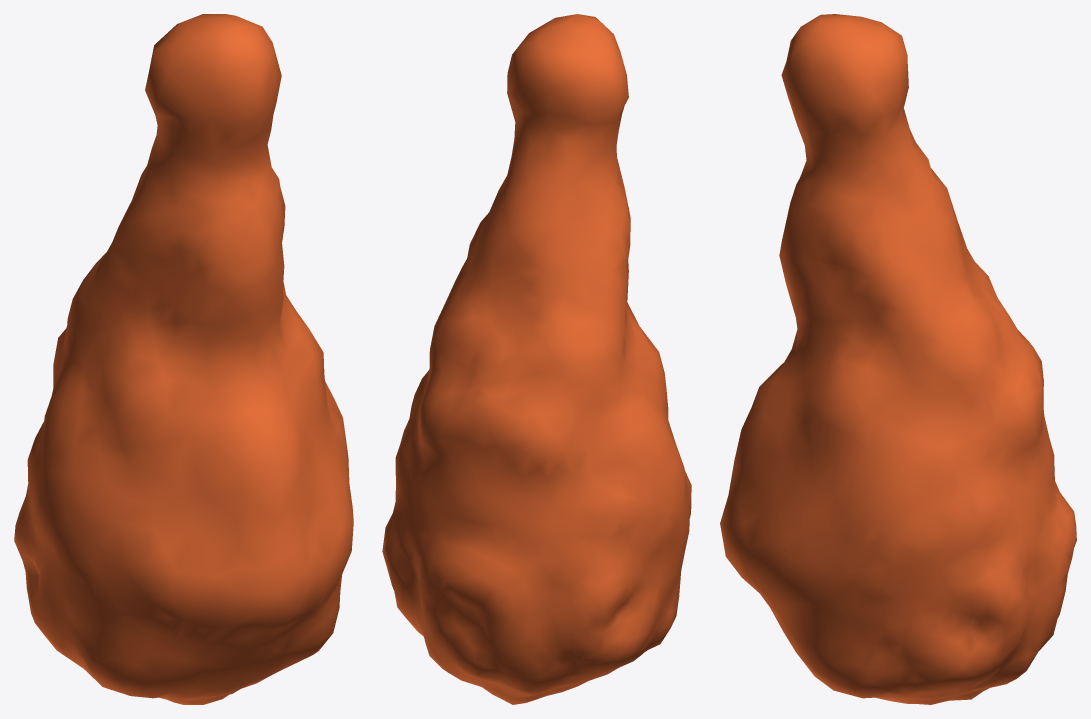
Rendered from CHICKEN.fbx.
3 views of the same model, side by side, from view 1: azimuth 30°, elevation 25°; view 2: azimuth 150°, elevation 25°; view 3: azimuth 270°, elevation 25° (orthographic). The views are drawn at different scales.
Visible parts, largest first — view 1: Cylinder.001; view 2: Cylinder.001; view 3: Cylinder.001.
Boxes of the visible parts, box(x1,y1,x2,y2) form: Cylinder.001: box(14, 14, 353, 704); Cylinder.001: box(382, 14, 691, 704); Cylinder.001: box(720, 14, 1076, 704).
Bounding box in the file's own units: 494 × 1143 × 547.
